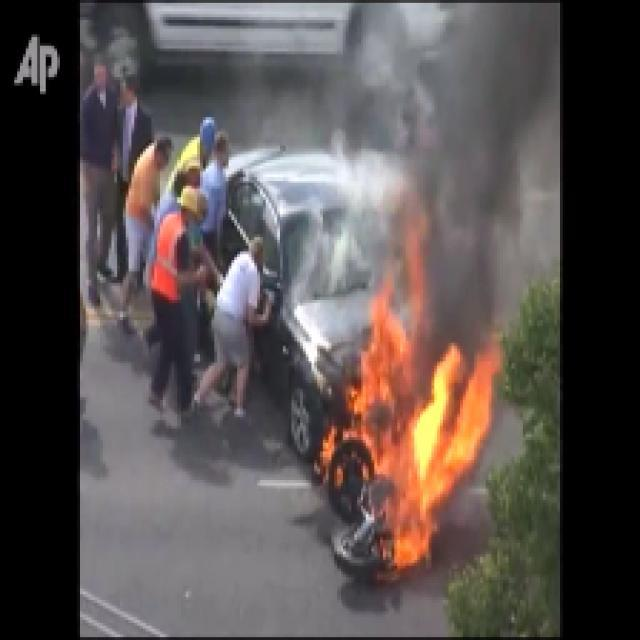Fire: (342, 359, 474, 566)
Smoke: (418, 0, 529, 335)
